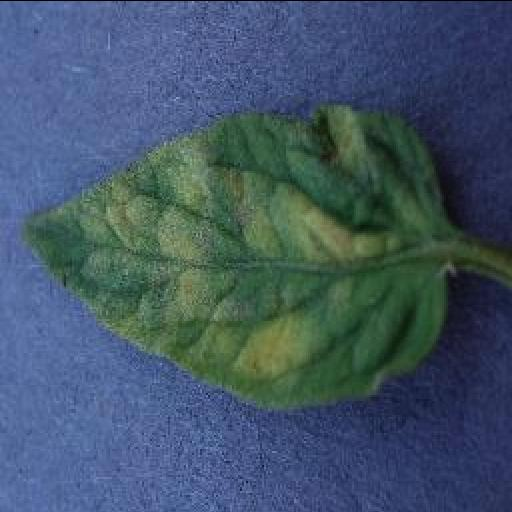disease_tomato: (22, 102, 454, 410)
